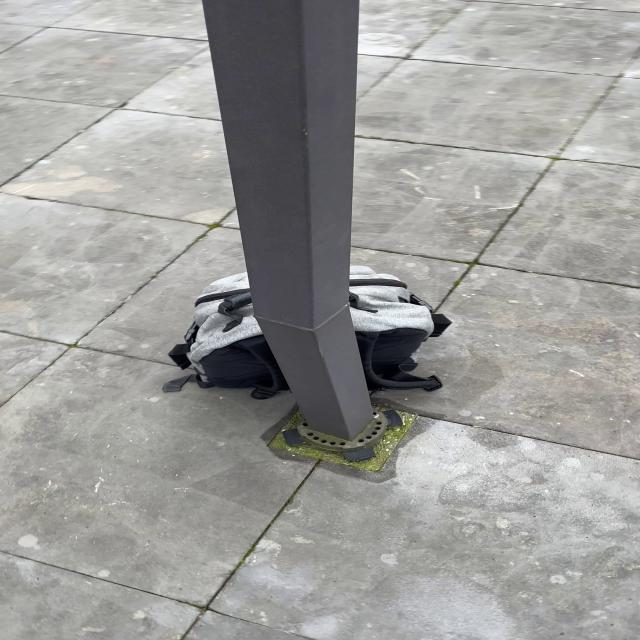backpack: (158, 262, 453, 402)
